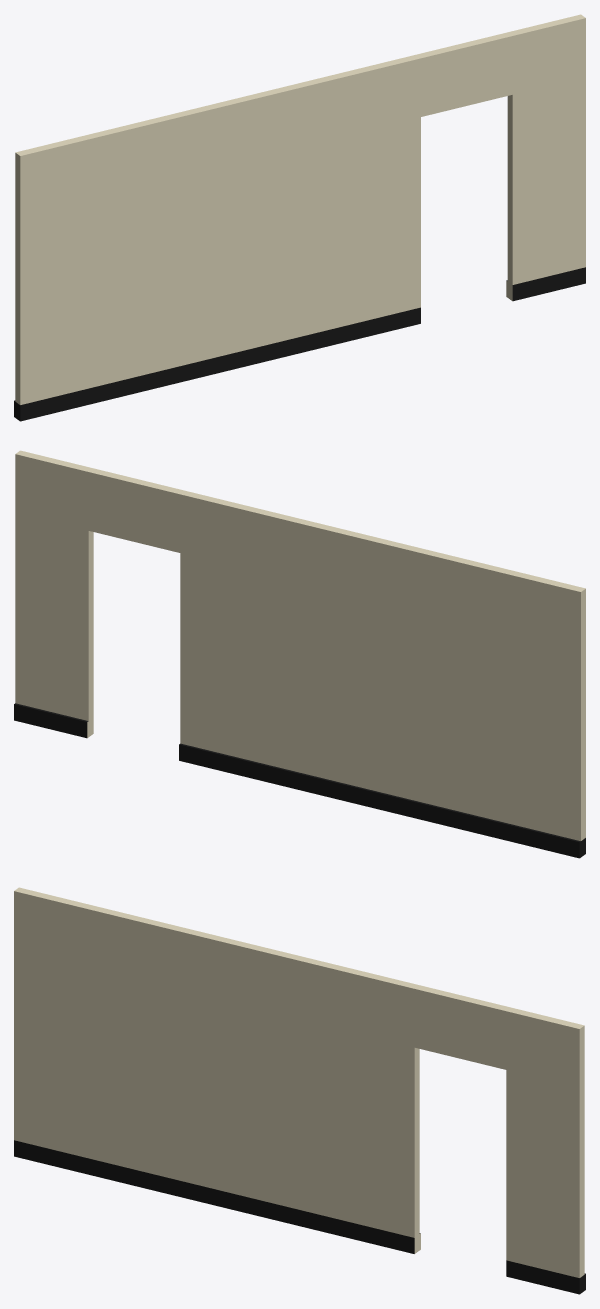
File: Wall 2.FBX
3 views of the same model, one above another, from view 1: azimuth 30°, elevation 25°; view 2: azimuth 150°, elevation 25°; view 3: azimuth 330°, elevation 25° (orthographic).
Parts seen in each view (by area): view 1: Wall 2; view 2: Wall 2; view 3: Wall 2.
Boxes of the visible parts, x1,y1,x2,y2 form: Wall 2: (14, 14, 585, 421); Wall 2: (14, 450, 585, 858); Wall 2: (14, 887, 585, 1294).
Bounding box in the file's own units: 582 × 261 × 11.22.
1 material, 1 textured.
